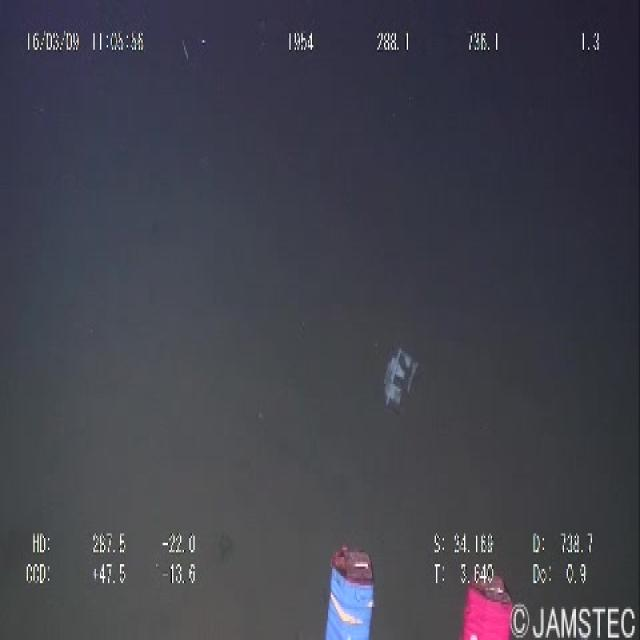plastic: (375, 337, 421, 412)
